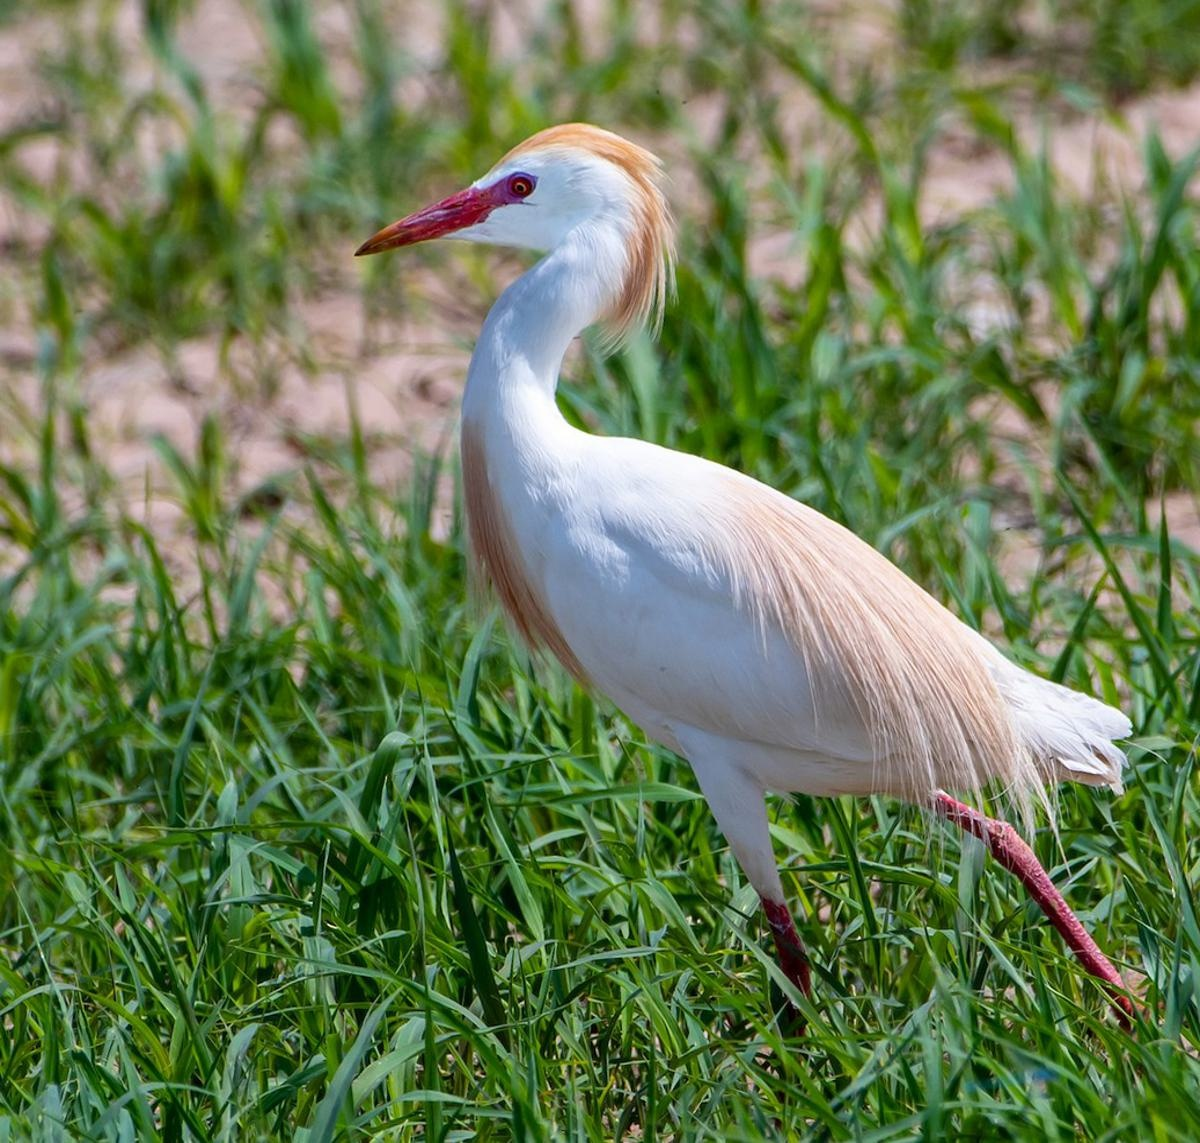egret: (351, 105, 1161, 1058)
